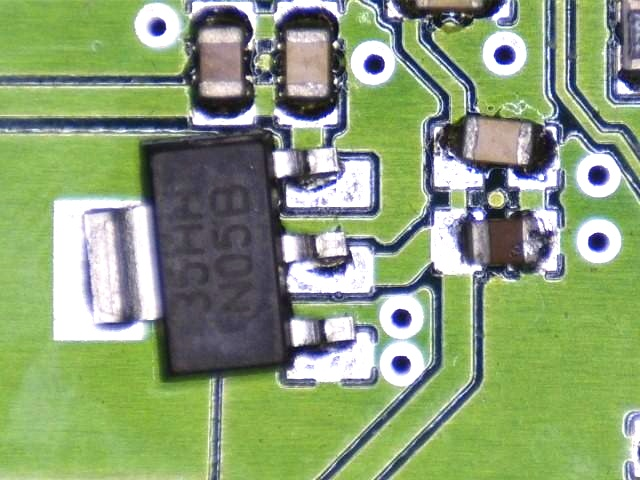pcb_defect: (52, 133, 373, 380), (433, 116, 556, 188)
